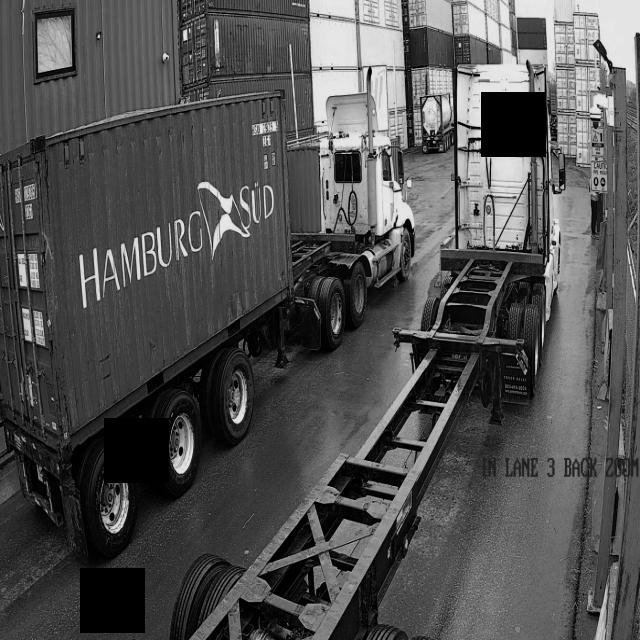container_company_logo: (74, 163, 278, 322)
truck_with_container: (0, 90, 415, 561)
truck_without_container: (169, 64, 565, 640)
